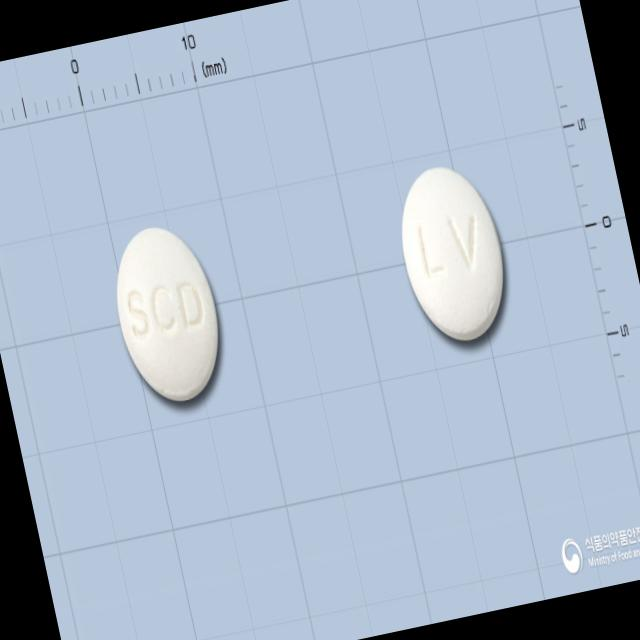Levostar -500mg: (100, 214, 234, 411), (387, 154, 518, 351)
